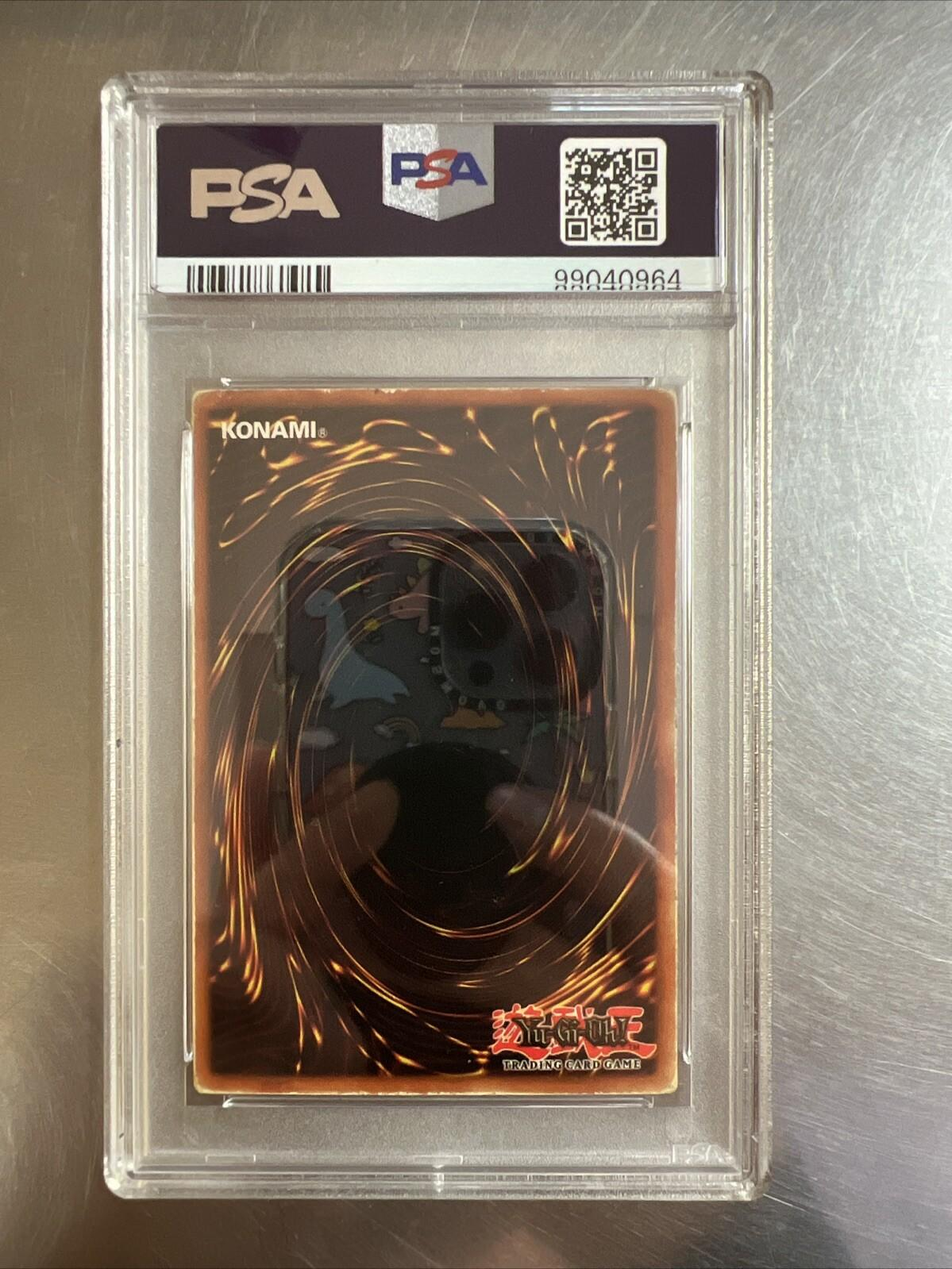card-2UtV: (191, 388, 679, 1095)
